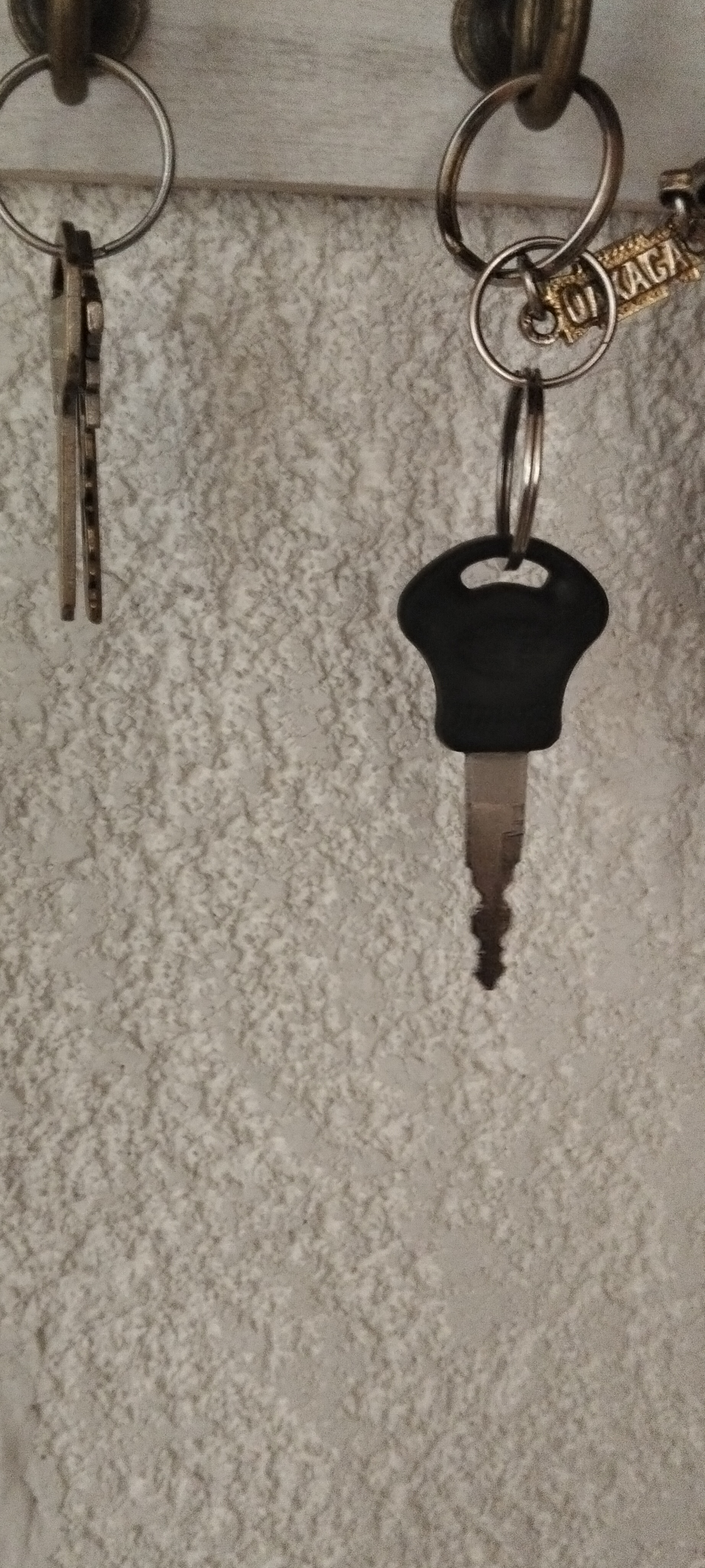llaves: (359, 44, 687, 1039)
